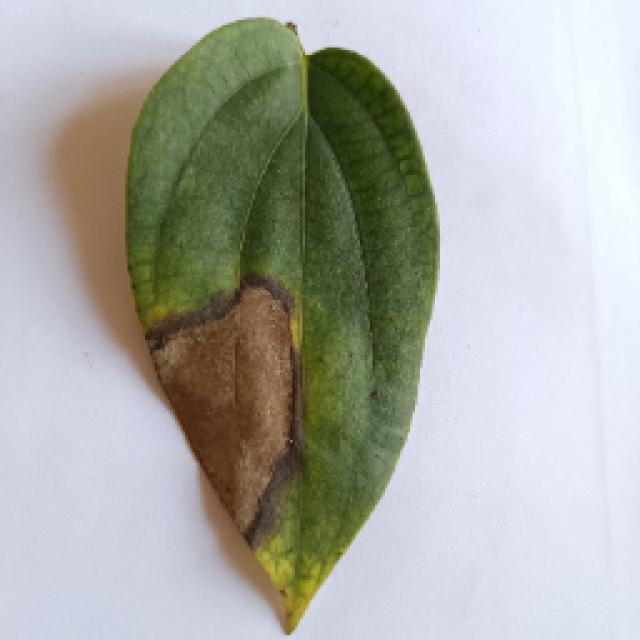footrot: (80, 22, 462, 628)
